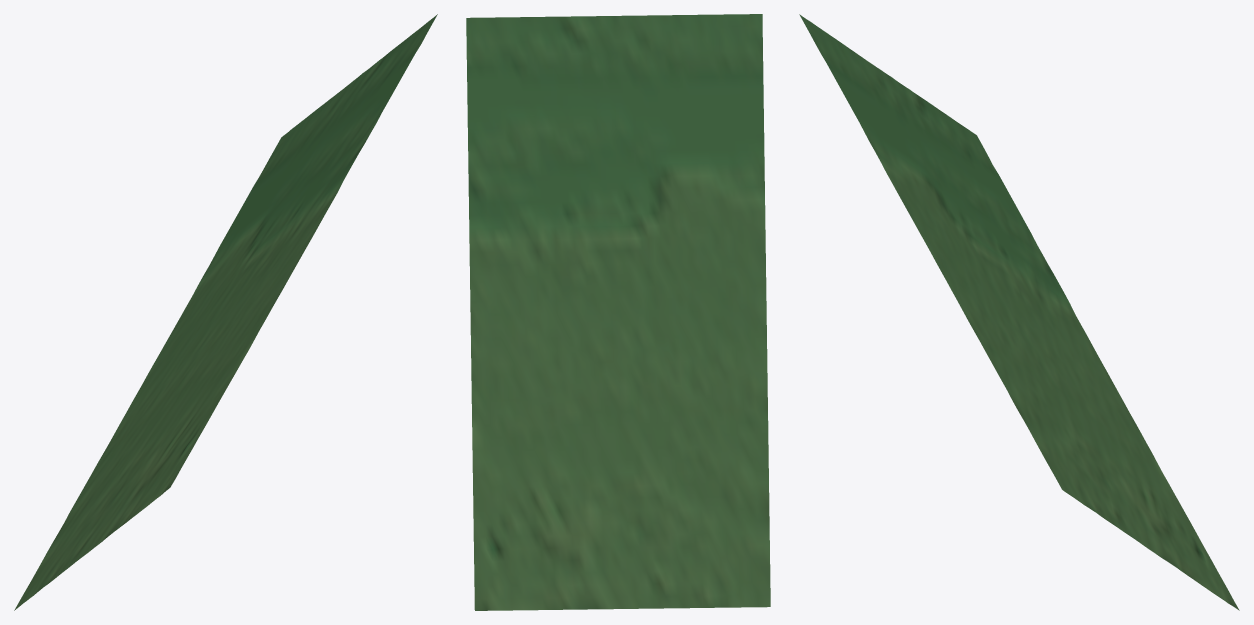
The picture shows the model from 3 angles, left to right: view 1: azimuth 30°, elevation 25°; view 2: azimuth 150°, elevation 25°; view 3: azimuth 270°, elevation 25°; orthographic projection. The views are drawn at different scales.
Bounding box in the file's own units: 9909 × 13247 × 9713.
